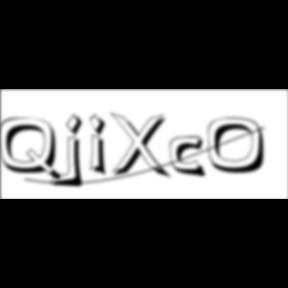O: (208, 117, 272, 176)
Q: (0, 117, 66, 184)
X: (110, 112, 174, 182)
c: (171, 136, 211, 180)
i: (89, 112, 113, 180)
j: (62, 113, 90, 191)
